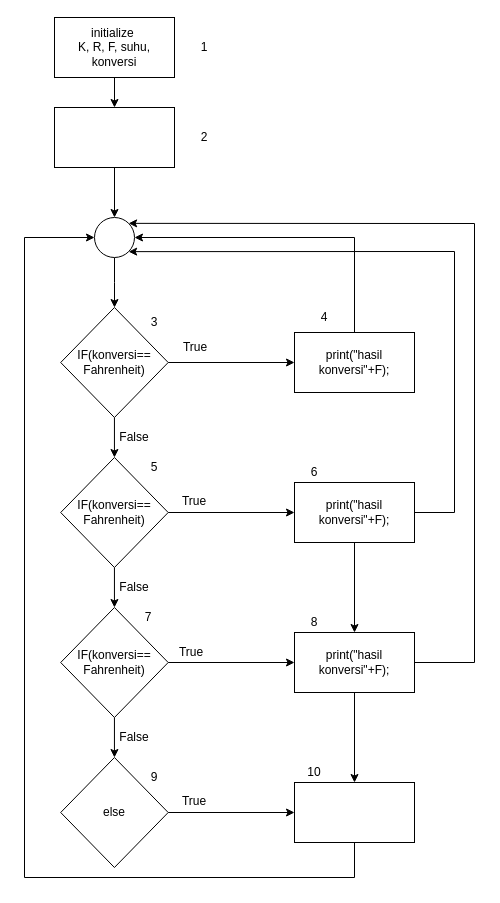
Some shapes in this 500 by 903 pixel diagram are drawn without their labels. The shapes that lost their labels are listed below. From the top down, each one's centre as x and y in pixels, then its label:
[114,137]: K = suhu + 273; R= (4/5) * suhu; F= (9/5) * suhu + 32;
[354,812]: print("konversi salah";
